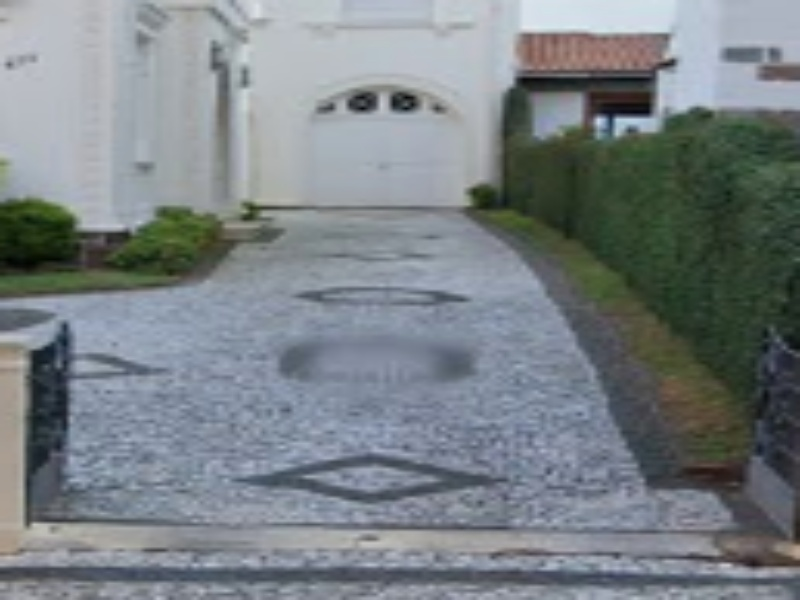v22: (46, 474, 721, 600)
